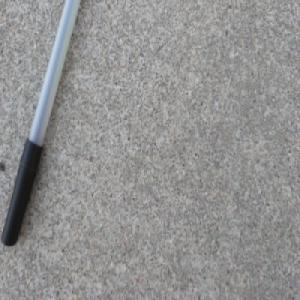Pen: (1, 0, 82, 247)
